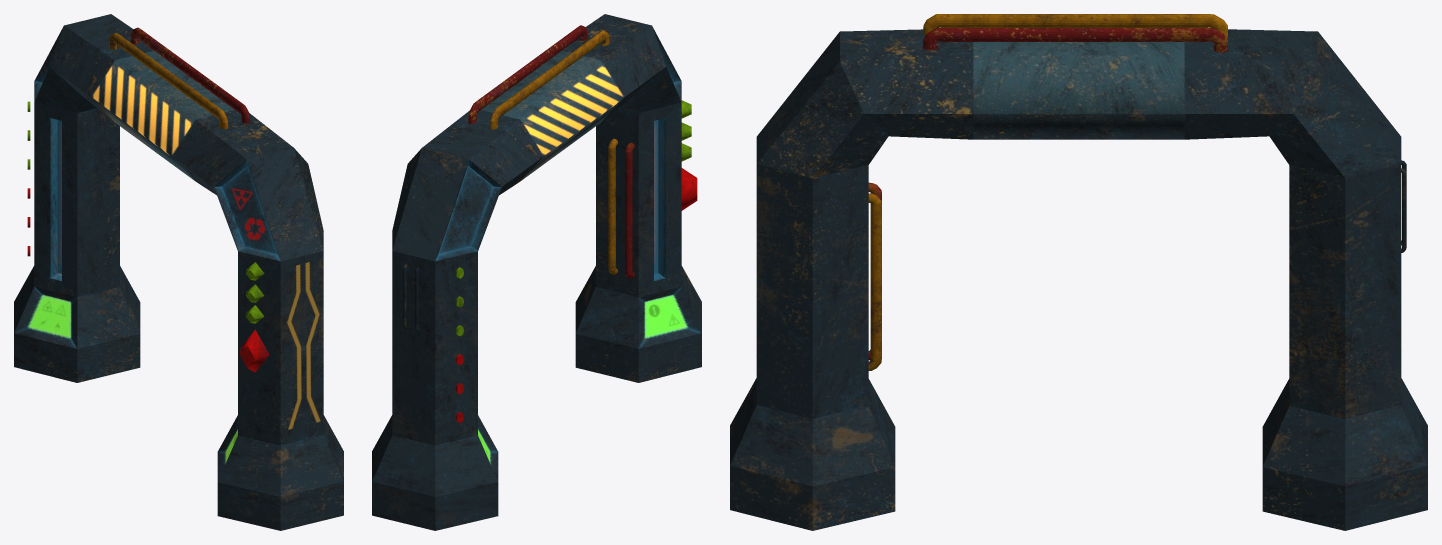
Rendered from ending_gate.glb.
3 renders of one model, left to right at view 1: azimuth 30°, elevation 25°; view 2: azimuth 150°, elevation 25°; view 3: azimuth 270°, elevation 25°, orthographic. The views are drawn at different scales.
Visible parts, largest first — view 1: Cylinder037, Cylinder041, Cylinder042, Cone004; view 2: Cylinder037, Cylinder041, Cylinder042, Cylinder040, Cylinder049, Cone004; view 3: Cylinder037, Cylinder041, Cylinder042, Cylinder049.
Part boxes in pixels (<box>): Cylinder037: <box>14,14,343,530</box>; Cylinder041: <box>130,27,249,123</box>; Cylinder042: <box>109,33,228,129</box>; Cone004: <box>240,329,269,372</box>; Cylinder037: <box>372,14,701,530</box>; Cylinder041: <box>468,25,587,124</box>; Cylinder042: <box>490,30,609,129</box>; Cylinder040: <box>625,142,634,278</box>; Cylinder049: <box>608,138,617,274</box>; Cone004: <box>681,168,697,210</box>; Cylinder037: <box>730,29,1427,530</box>; Cylinder041: <box>923,28,1227,52</box>; Cylinder042: <box>923,14,1227,37</box>; Cylinder049: <box>868,193,881,370</box>.
Bounding box in the file's own units: 0.5469 × 1.49 × 2.
Materials: 1 (1 with a texture image).
